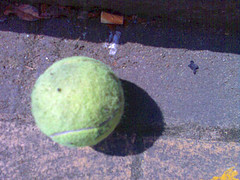tennis ball: (27, 53, 129, 150)
